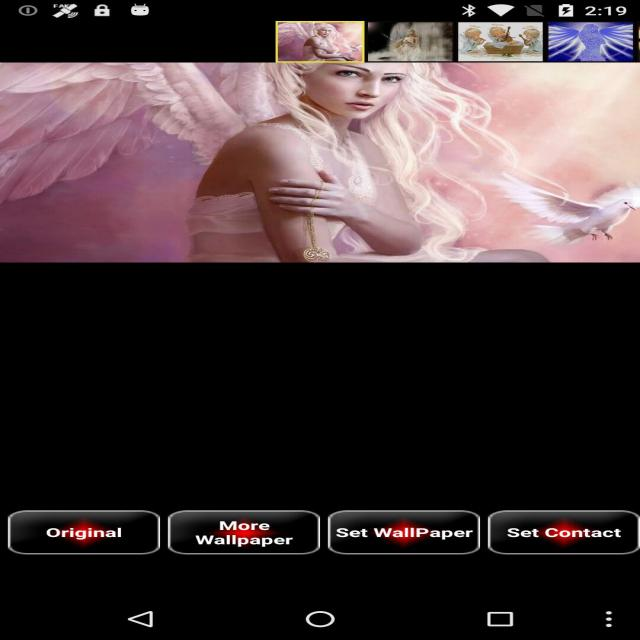button: (7, 505, 162, 571), (486, 505, 638, 571), (165, 506, 325, 568), (332, 505, 480, 568)
image: (0, 61, 635, 261), (461, 22, 551, 65), (370, 21, 461, 63), (552, 23, 635, 65), (277, 23, 366, 59)
